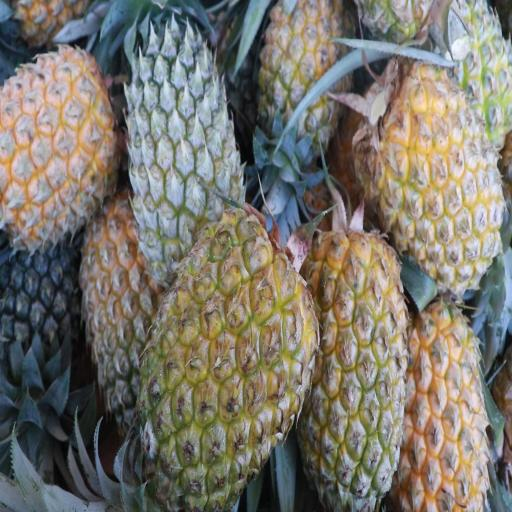------------------------------: (80, 211, 169, 424), (263, 0, 353, 138)
Pineapple - v8 v1: (150, 206, 315, 500), (304, 223, 406, 499), (376, 68, 507, 271), (0, 45, 121, 234), (405, 296, 488, 512)
